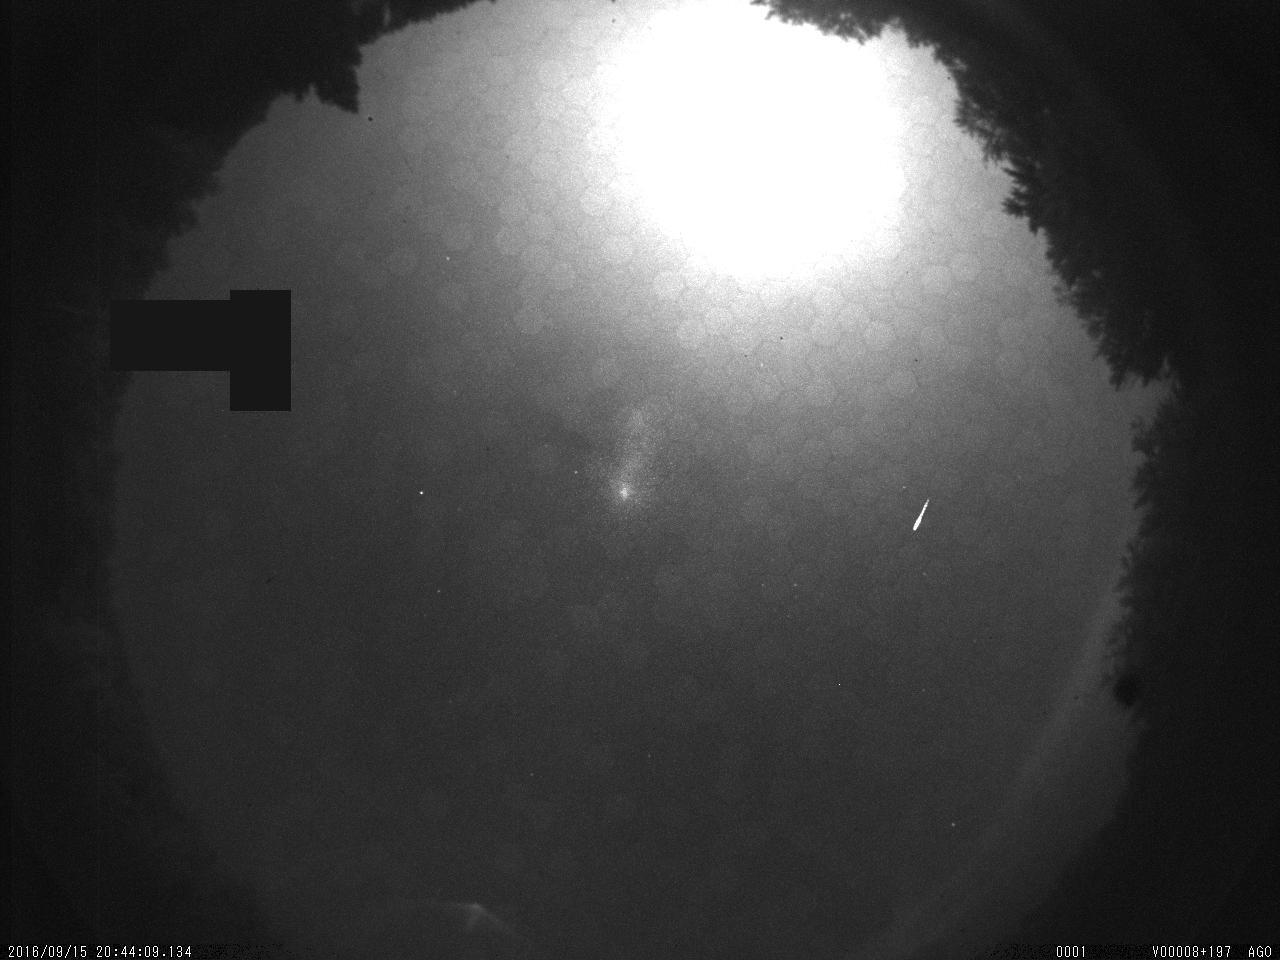meteor: (908, 499, 940, 540)
